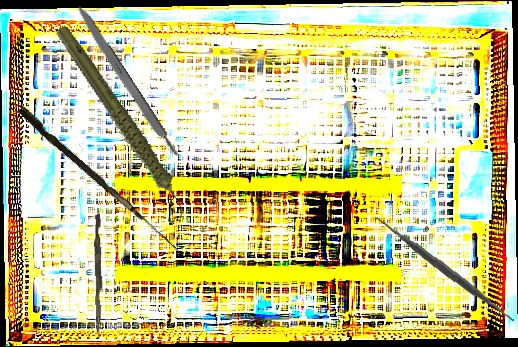Handpiece: (52, 6, 190, 242)
Hook Surgical: (15, 105, 186, 253)
Pusher: (92, 214, 105, 338)
Scalpel Handle: (71, 2, 181, 160)
Spatula Surgical: (375, 200, 515, 338)
